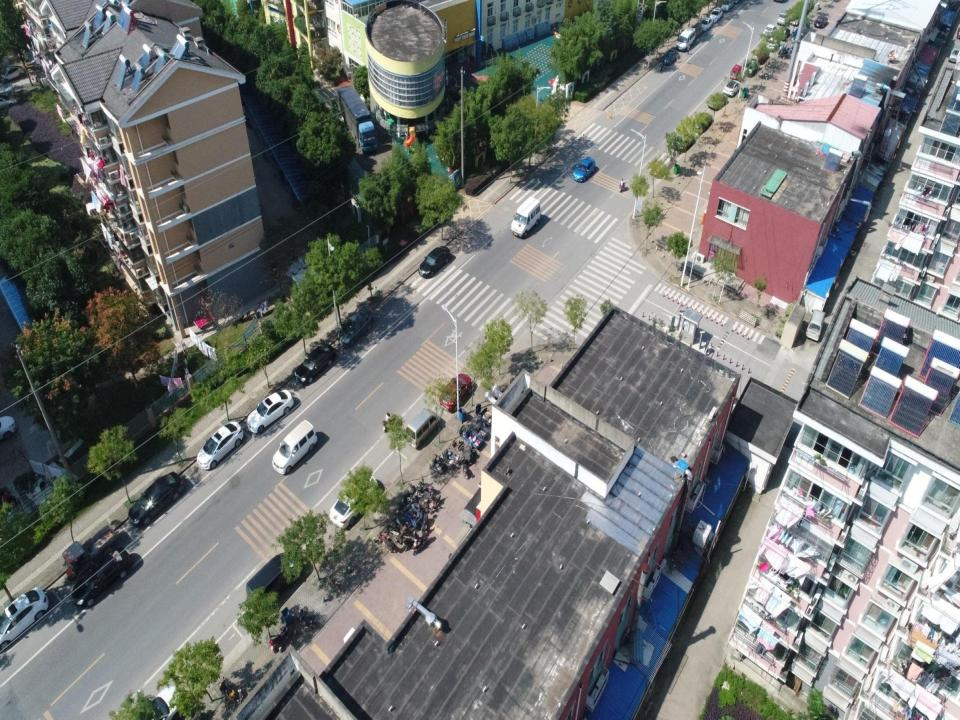car: (72, 547, 130, 610), (0, 588, 49, 650), (128, 472, 182, 525), (330, 472, 378, 530), (197, 420, 243, 470), (142, 680, 198, 719), (247, 390, 294, 434), (293, 343, 335, 386), (439, 373, 472, 413), (338, 306, 371, 345), (418, 245, 451, 279), (573, 156, 596, 182), (693, 111, 712, 135), (0, 64, 25, 82), (0, 416, 17, 440), (707, 93, 726, 111), (723, 78, 740, 98), (677, 133, 694, 152), (948, 44, 960, 64), (0, 93, 17, 107), (663, 48, 676, 66), (745, 58, 757, 76), (814, 16, 828, 30), (766, 37, 778, 53), (700, 17, 712, 33), (710, 7, 722, 23), (763, 24, 776, 38), (777, 10, 789, 25), (777, 26, 789, 41), (758, 46, 768, 64), (730, 64, 742, 78), (778, 47, 790, 58), (722, 0, 735, 10), (759, 71, 770, 81), (790, 16, 800, 25)
truck: (62, 523, 119, 582), (336, 84, 378, 152), (472, 414, 490, 438)
van: (246, 552, 304, 607), (271, 419, 318, 475), (404, 409, 438, 450), (510, 197, 540, 237), (805, 310, 826, 342), (676, 26, 696, 52), (692, 22, 701, 36)
